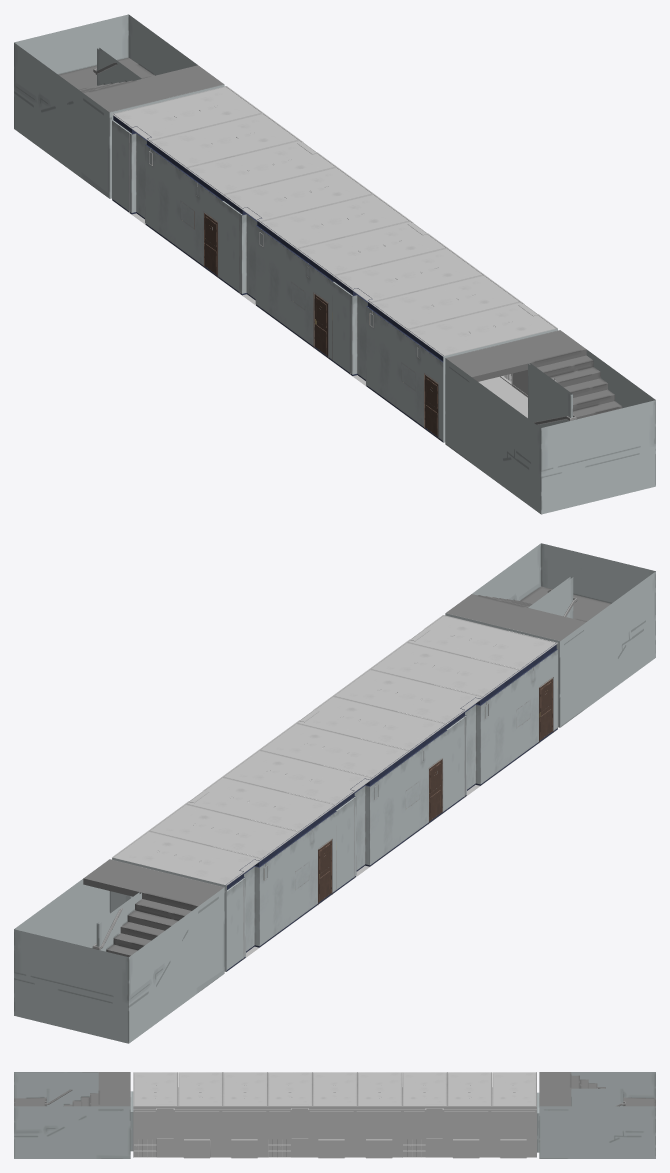
The picture shows the model from 3 angles, top to bottom: view 1: azimuth 30°, elevation 25°; view 2: azimuth 150°, elevation 25°; view 3: azimuth 270°, elevation 25°; orthographic projection. The views are drawn at different scales.
Visible parts, largest first — view 1: The Japanese school corridor; view 2: The Japanese school corridor; view 3: The Japanese school corridor.
Part boxes in pixels (left/top/right/bottom): The Japanese school corridor: left=14, top=14, right=655, bottom=514; The Japanese school corridor: left=14, top=543, right=655, bottom=1043; The Japanese school corridor: left=14, top=1072, right=655, bottom=1158.
Bounding box in the file's own units: 4.67 × 3.35 × 37.
